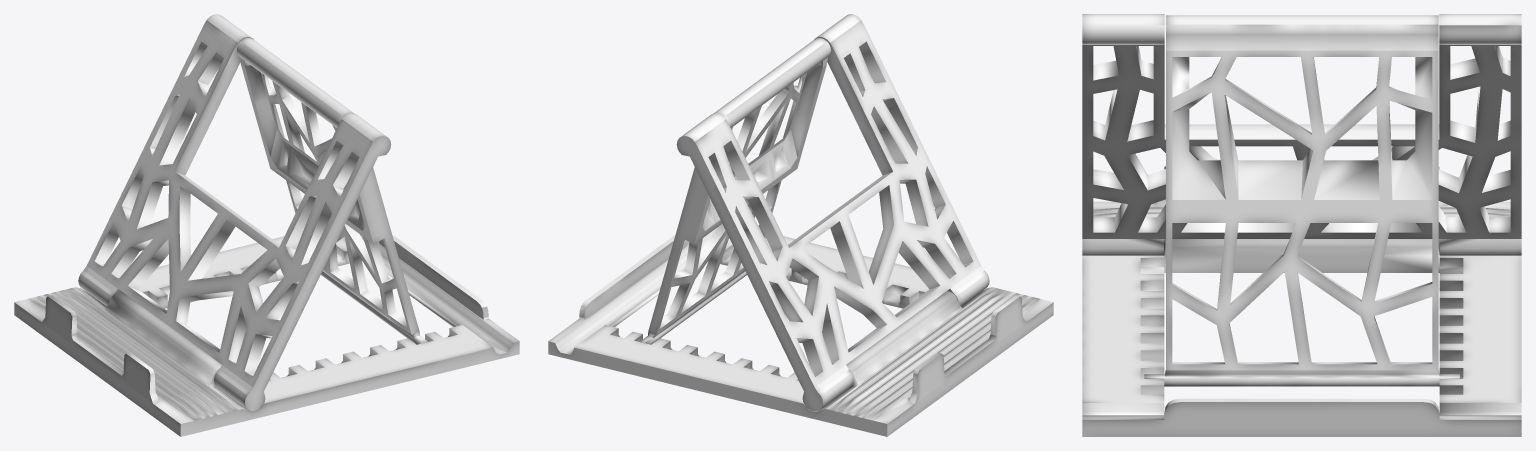
File: Podst.fbx
3 views of the same model, side by side, from view 1: azimuth 30°, elevation 25°; view 2: azimuth 150°, elevation 25°; view 3: azimuth 270°, elevation 25° (orthographic). The views are drawn at different scales.
Visible parts, largest first — view 1: Pod_low; view 2: Pod_low; view 3: Pod_low.
Part boxes in pixels (x1,y1,x2,y2): Pod_low: (14, 14, 519, 436); Pod_low: (548, 14, 1053, 436); Pod_low: (1082, 14, 1521, 436).
Bounding box in the file's own units: 41.63 × 35.42 × 29.53.
